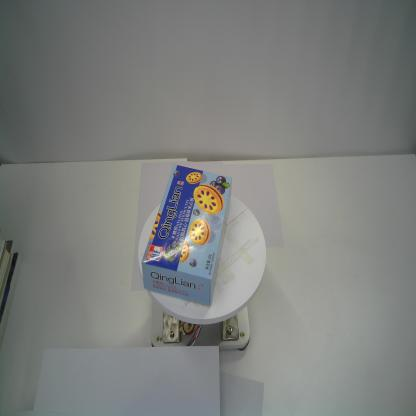Dessert: (141, 163, 233, 307)
